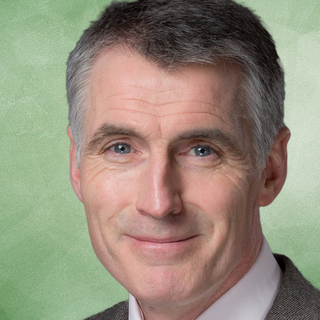eye: (179, 140, 227, 165), (96, 138, 142, 163)
